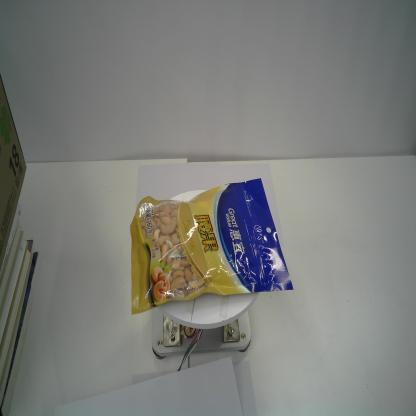Dried Fruit: (130, 178, 294, 316)
